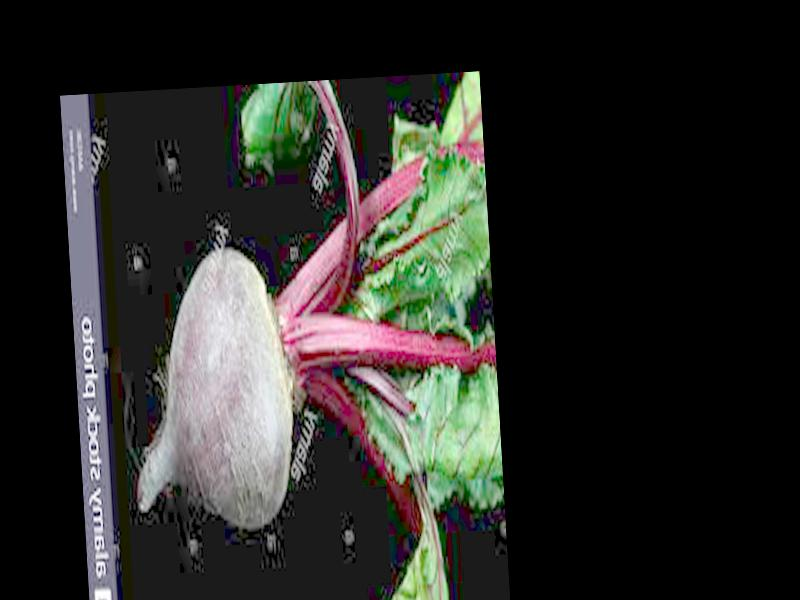Beet: (115, 71, 509, 600)
